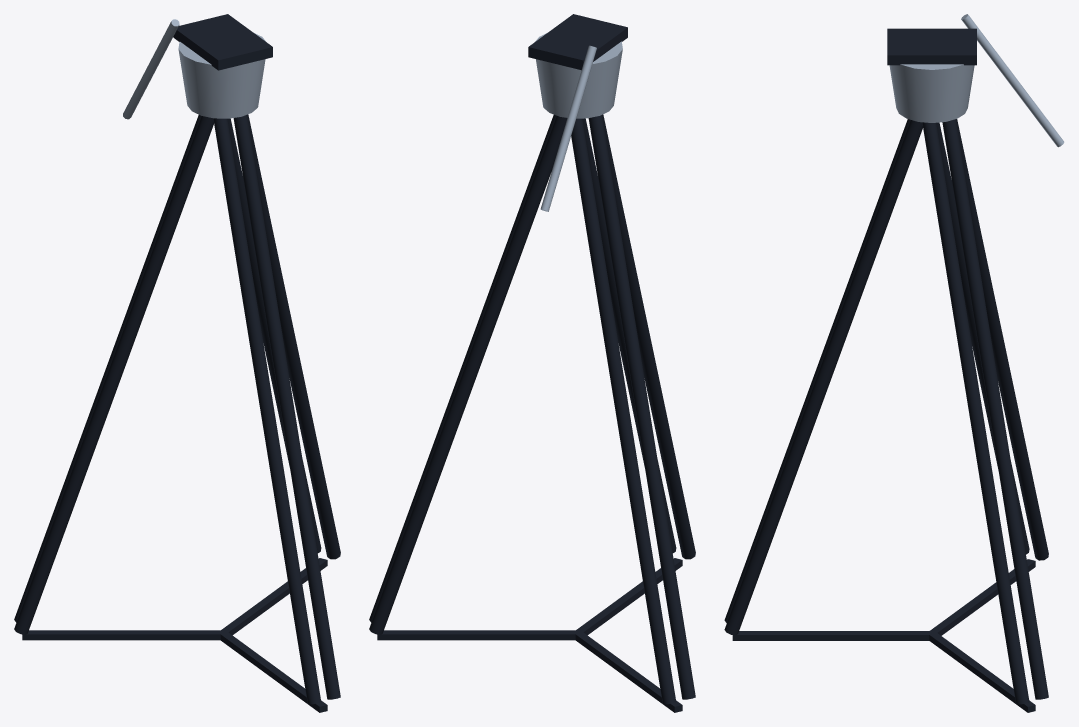
Rendered from cinema_tripod.glb.
3 views of the same model, side by side, from view 1: azimuth 30°, elevation 25°; view 2: azimuth 150°, elevation 25°; view 3: azimuth 270°, elevation 25° (orthographic).
Parts seen in each view (by area): view 1: CinemaTripod; view 2: CinemaTripod; view 3: CinemaTripod.
Part boxes in pixels (<box>): CinemaTripod: <box>14,14,340,712</box>; CinemaTripod: <box>369,14,695,712</box>; CinemaTripod: <box>724,14,1064,712</box>.
Bounding box in the file's own units: 0.831 × 1.5 × 0.7588.
